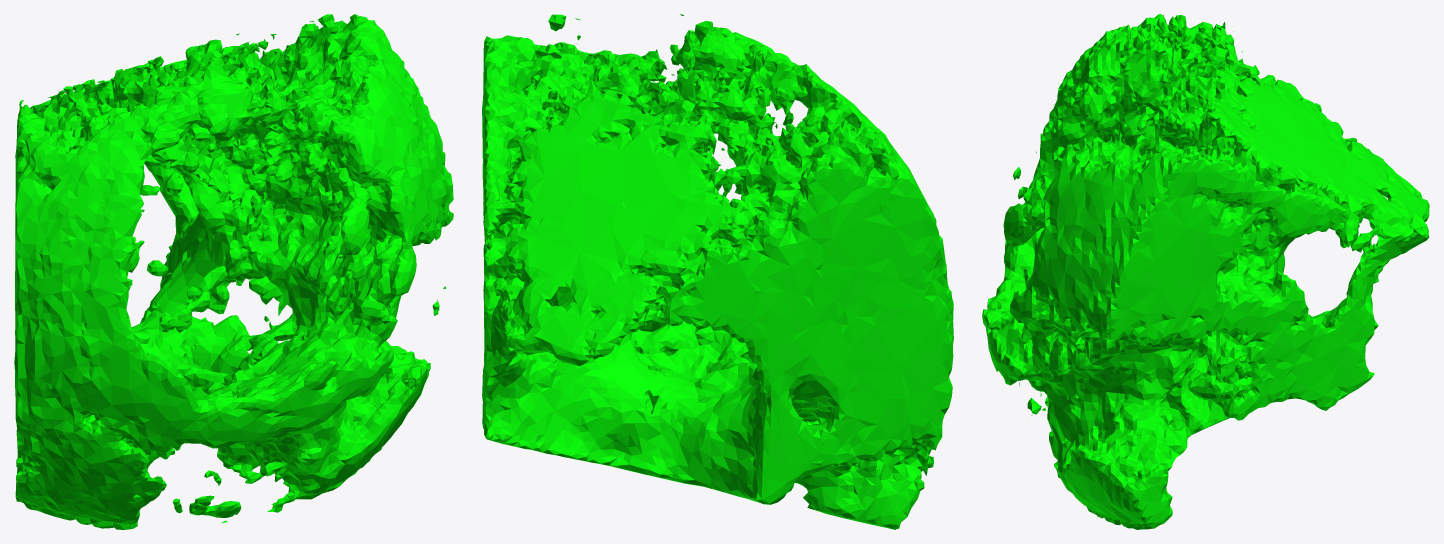
The model's file is B939XXXX-1_base_13.obj.
The picture shows the model from 3 angles, left to right: view 1: azimuth 30°, elevation 25°; view 2: azimuth 150°, elevation 25°; view 3: azimuth 270°, elevation 25°; orthographic projection. The views are drawn at different scales.
Visible parts, largest first — view 1: 13_base; view 2: 13_base; view 3: 13_base.
Part boxes in pixels (x1,y1,x2,y2): 13_base: (14, 14, 453, 529); 13_base: (482, 14, 953, 529); 13_base: (982, 14, 1429, 529).
Size of the model in its own units: 219 by 219 by 204.
